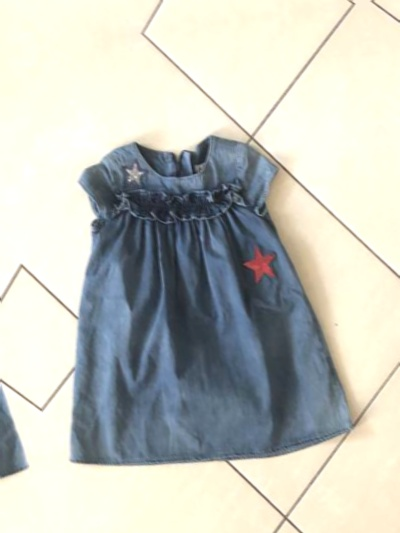Dress: (23, 56, 369, 487), (0, 104, 27, 533), (0, 0, 302, 4)
